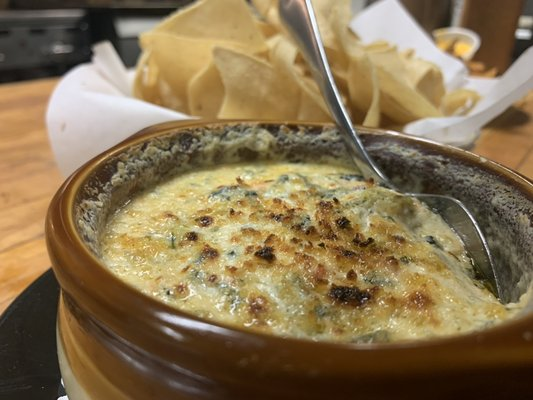salad: (266, 7, 533, 306)
sushi: (44, 113, 519, 400), (404, 44, 533, 148)
